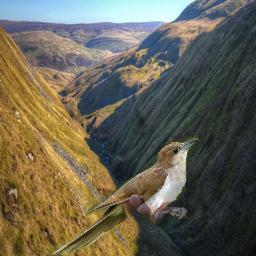Cuckoo: (50, 137, 199, 255)
